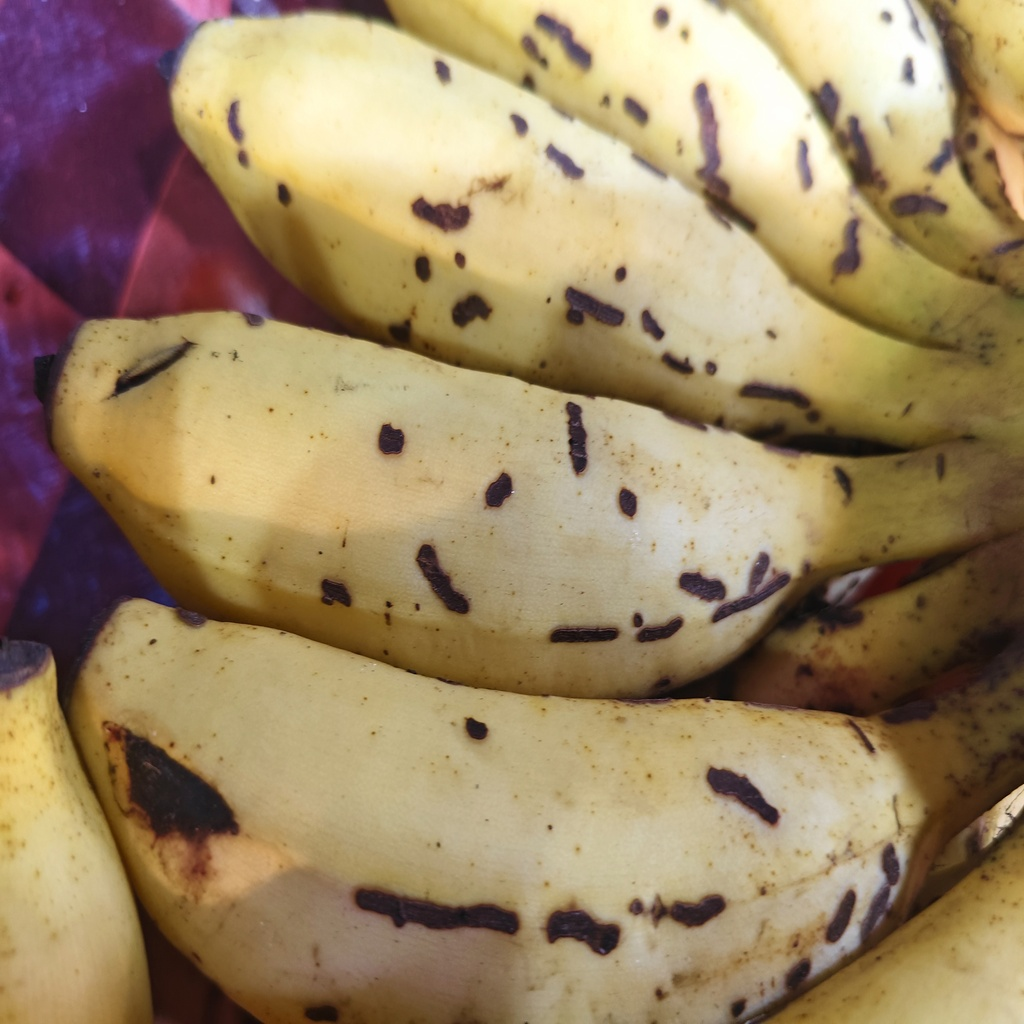unhealthy: (84, 598, 929, 1024), (51, 305, 844, 692), (183, 8, 807, 423)
